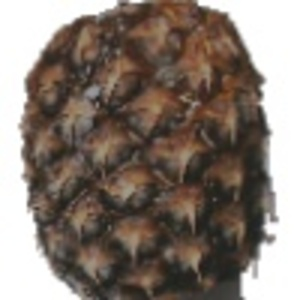abacaxi: (14, 4, 284, 291)
